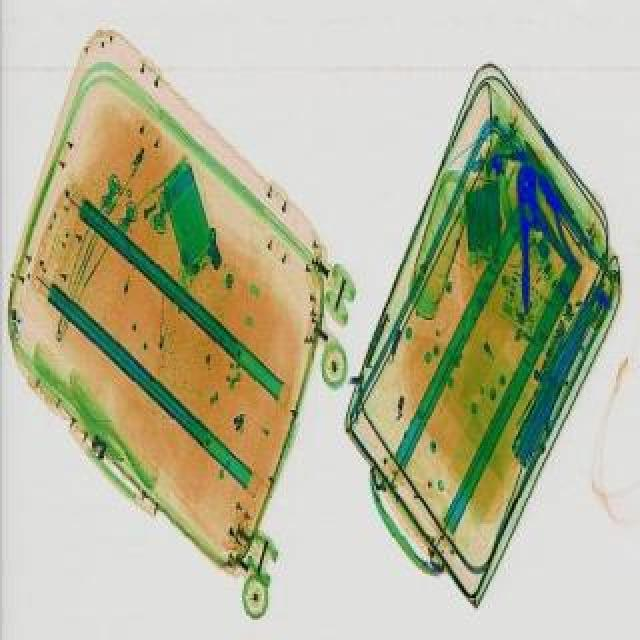wrench: (490, 156, 590, 312), (528, 168, 600, 270)
